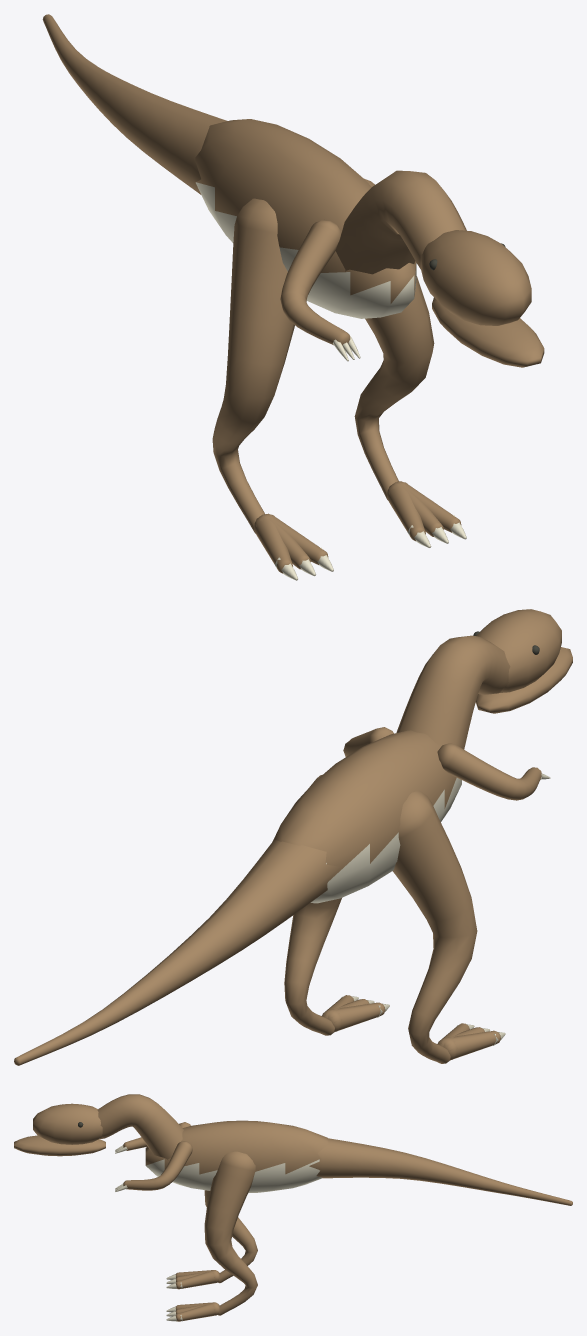
The model's file is gallimimus.glb.
3 renders of one model, top to bottom at view 1: azimuth 30°, elevation 25°; view 2: azimuth 150°, elevation 25°; view 3: azimuth 270°, elevation 25°, orthographic. The views are drawn at different scales.
Visible parts, largest first — view 1: gallimimus; view 2: gallimimus; view 3: gallimimus.
Boxes of the visible parts, bbox=[...] form: gallimimus: bbox=[42, 14, 544, 580]; gallimimus: bbox=[14, 609, 572, 1065]; gallimimus: bbox=[14, 1094, 572, 1321].
Size of the model in its own units: 1.17 by 2.23 by 5.5.
